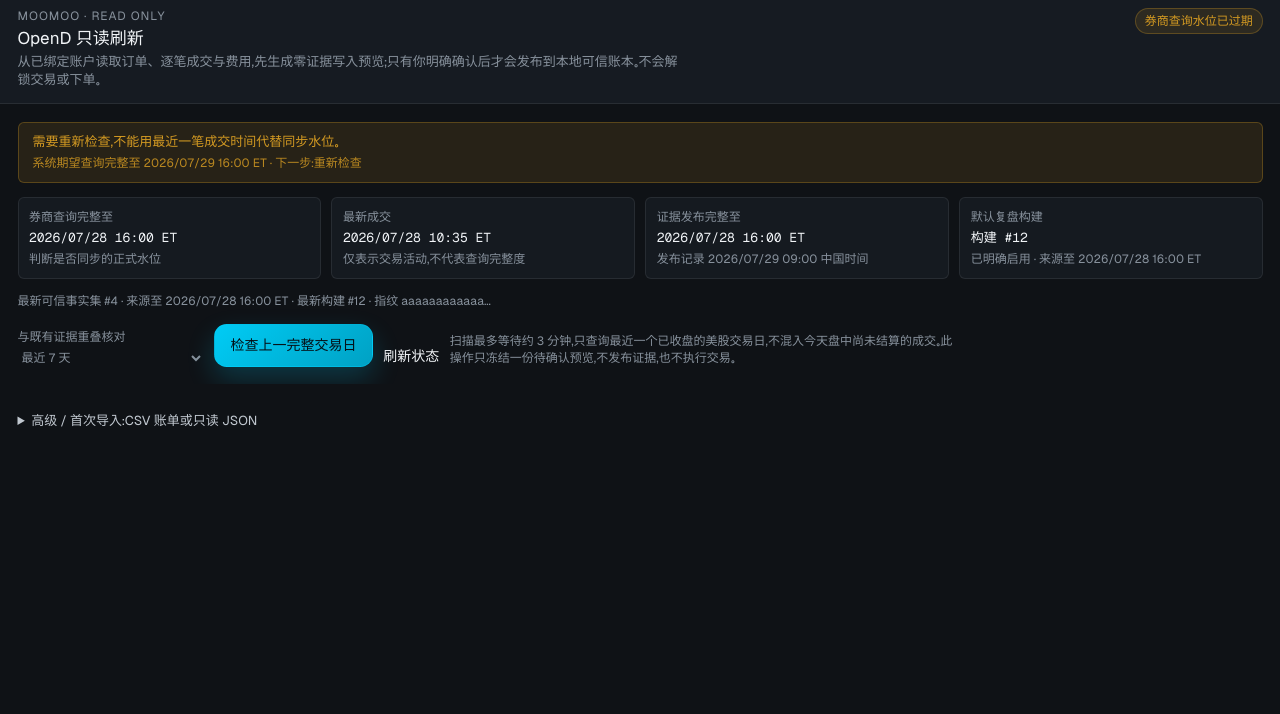
JournalImport › runs the server-owned OpenD preview without publishing evidence
The width and height of the screenshot is (1280, 714).
Expected: the text "券商查询水位已过期" is shown, [1135, 8, 1262, 34]
Expected: the text "券商查询完整至" is shown, [29, 210, 113, 224]
Click the button "检查上一完整交易日" at (293, 345), box [214, 324, 373, 367]
(page scrolled)
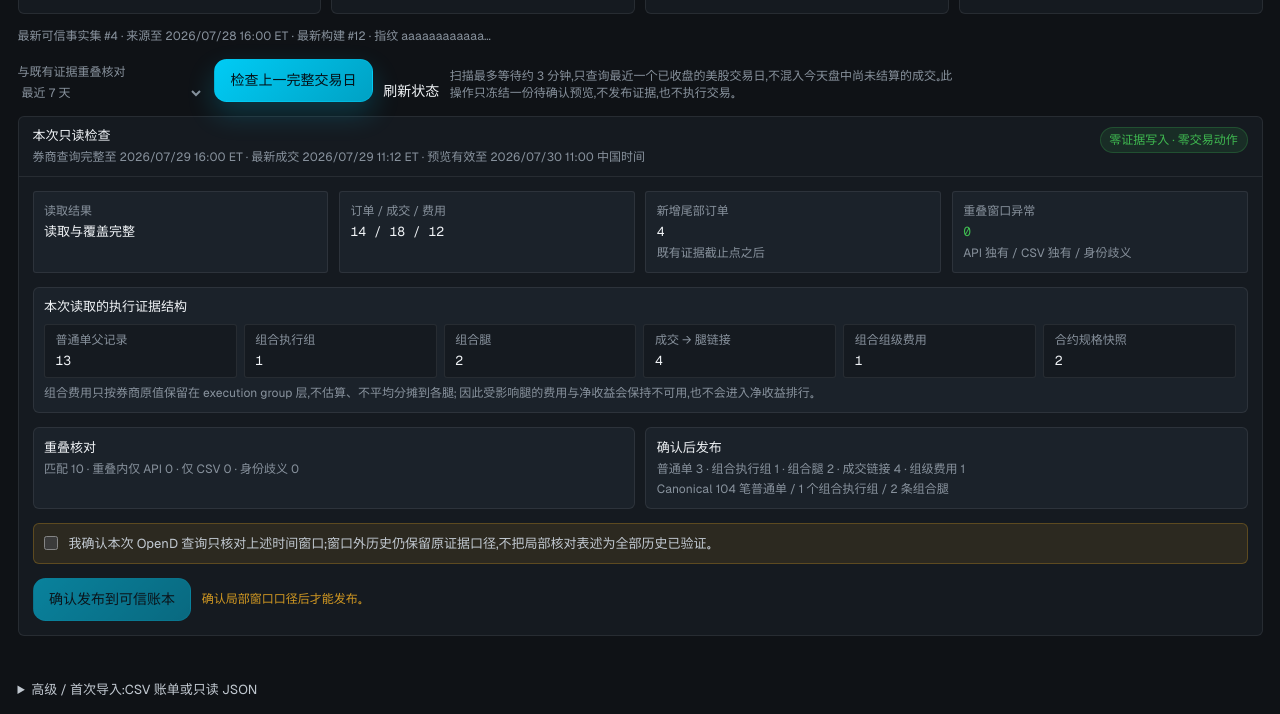
Result: the element named "Moomoo 刷新预览" is shown
Result: the text "零证据写入 · 零交易动作" is shown at [1100, 127, 1248, 153]
Result: the text "新增尾部订单" is shown at [657, 204, 729, 218]
